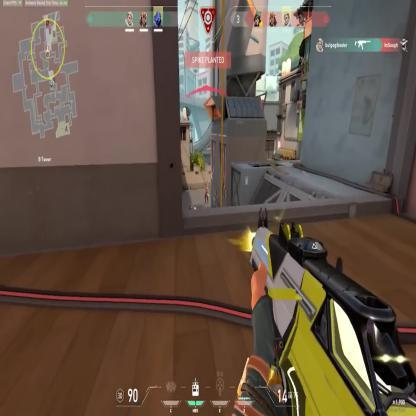enemy: (204, 184, 209, 204)
enemy_head: (205, 184, 207, 188)
